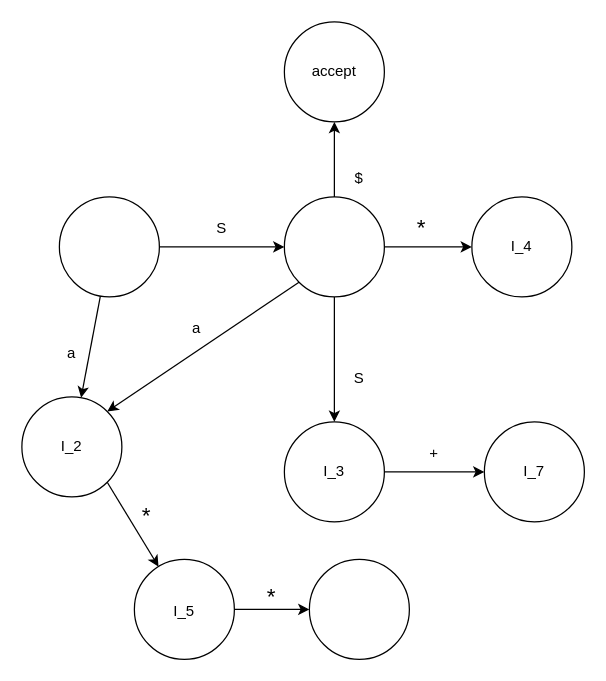
This 606x681 diagram has some shape labels left out. Here are the shapes that lost their labels. From the top down, the centre of each, then its label:
At (108,246): "I_0".
At (333,246): "I_1".
At (358,608): "I_6".
